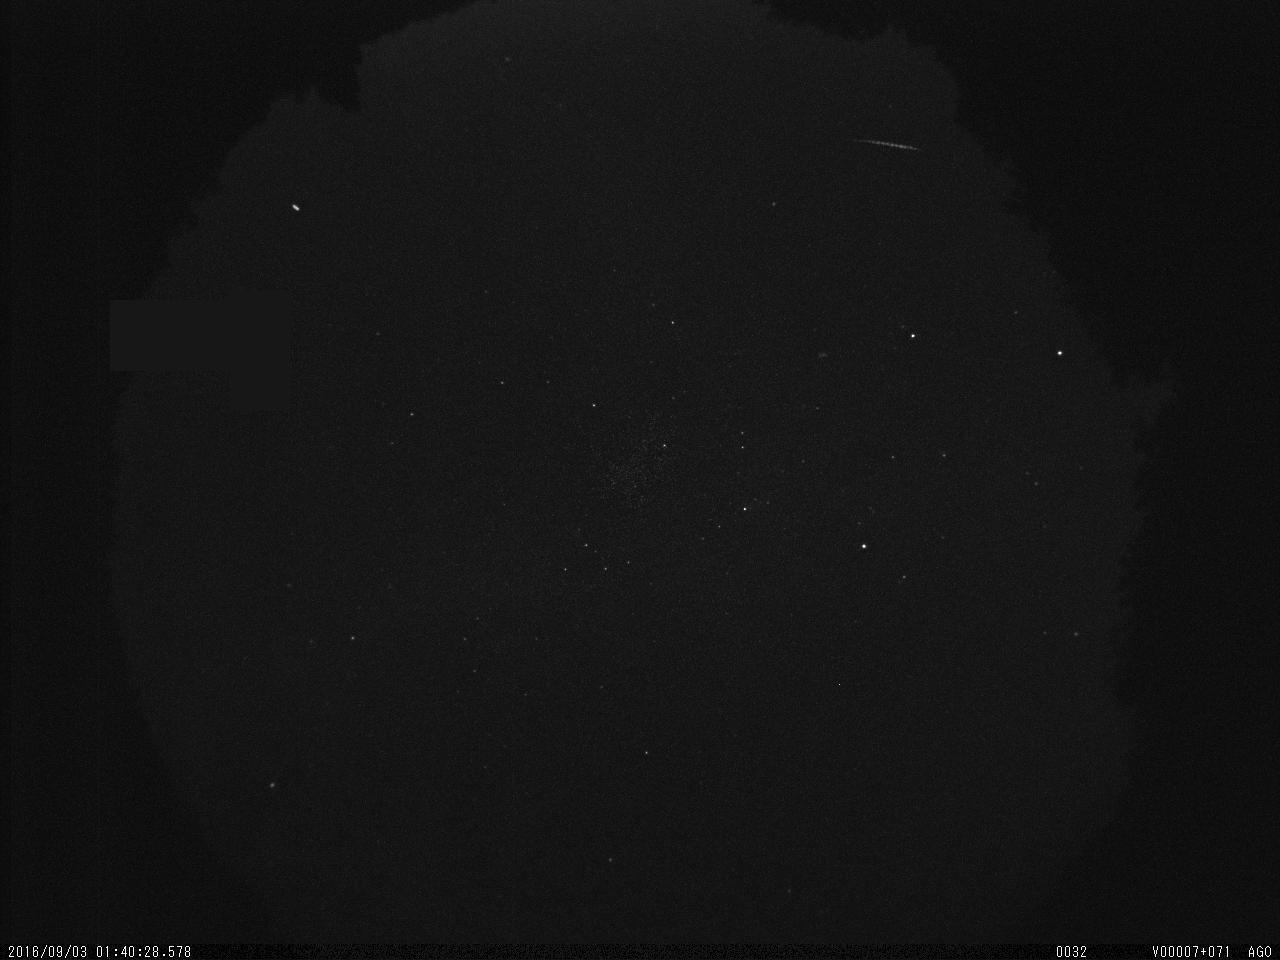meteor: (826, 116, 930, 165)
